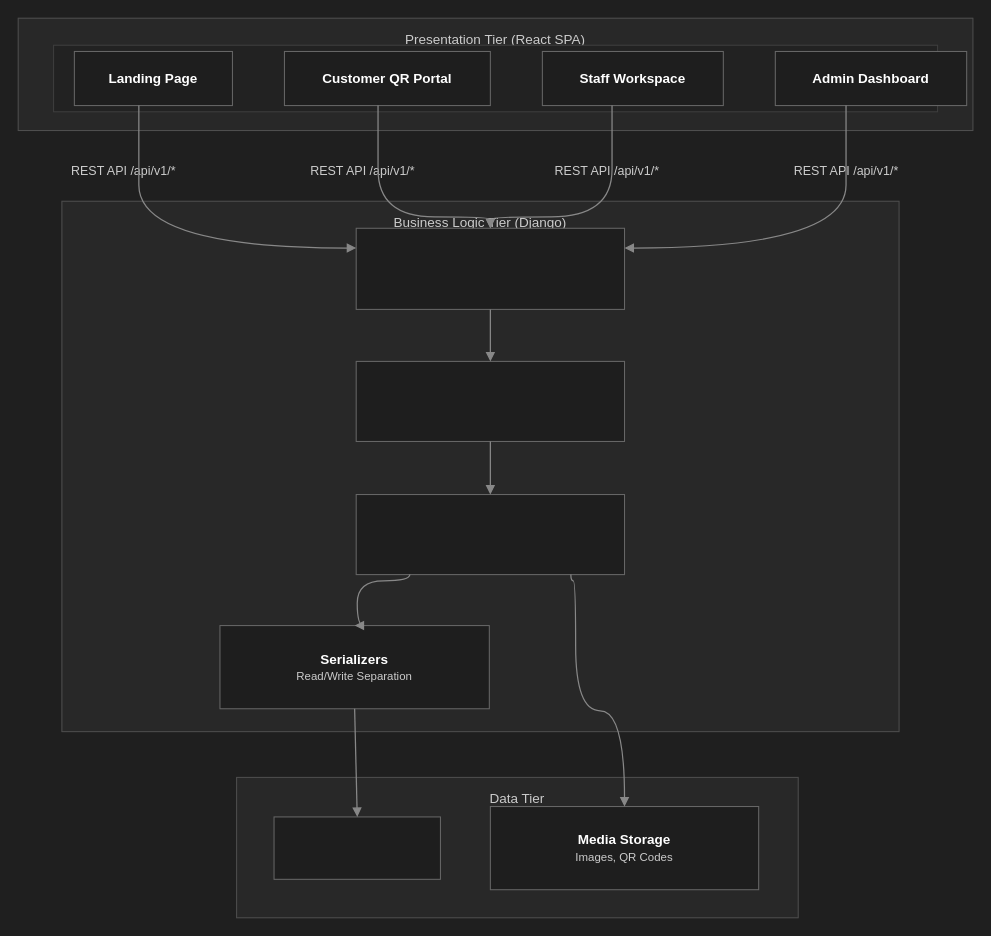
The diagram is 991 pixels wide and 936 high, and some of its shapes have lost their labels. The shapes that lost their labels are listed below. From the top down, each one's centre as x and y in pixels, then its label:
the point at 490,268: Auth Module JWT + Google OAuth
the point at 490,400: Permission Layer Role-Based
the point at 490,534: ViewSets 12 Resource Endpoints
the point at 356,847: PostgreSQL 16
